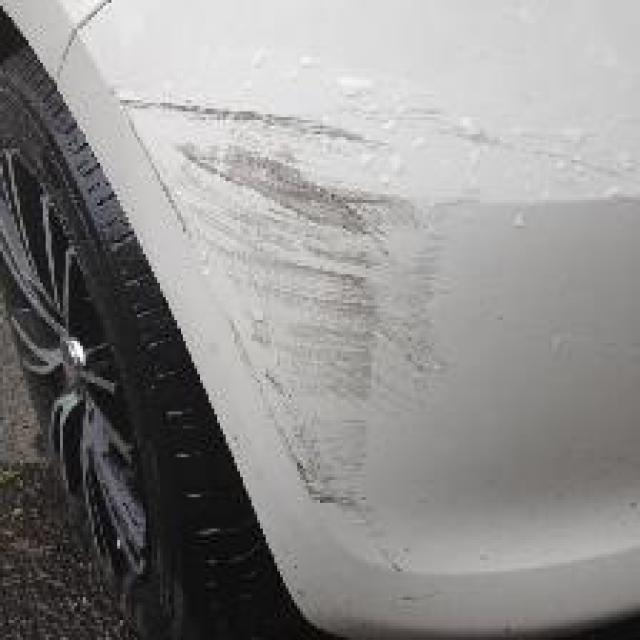bumper_scratch_moderate: (131, 103, 431, 509)
